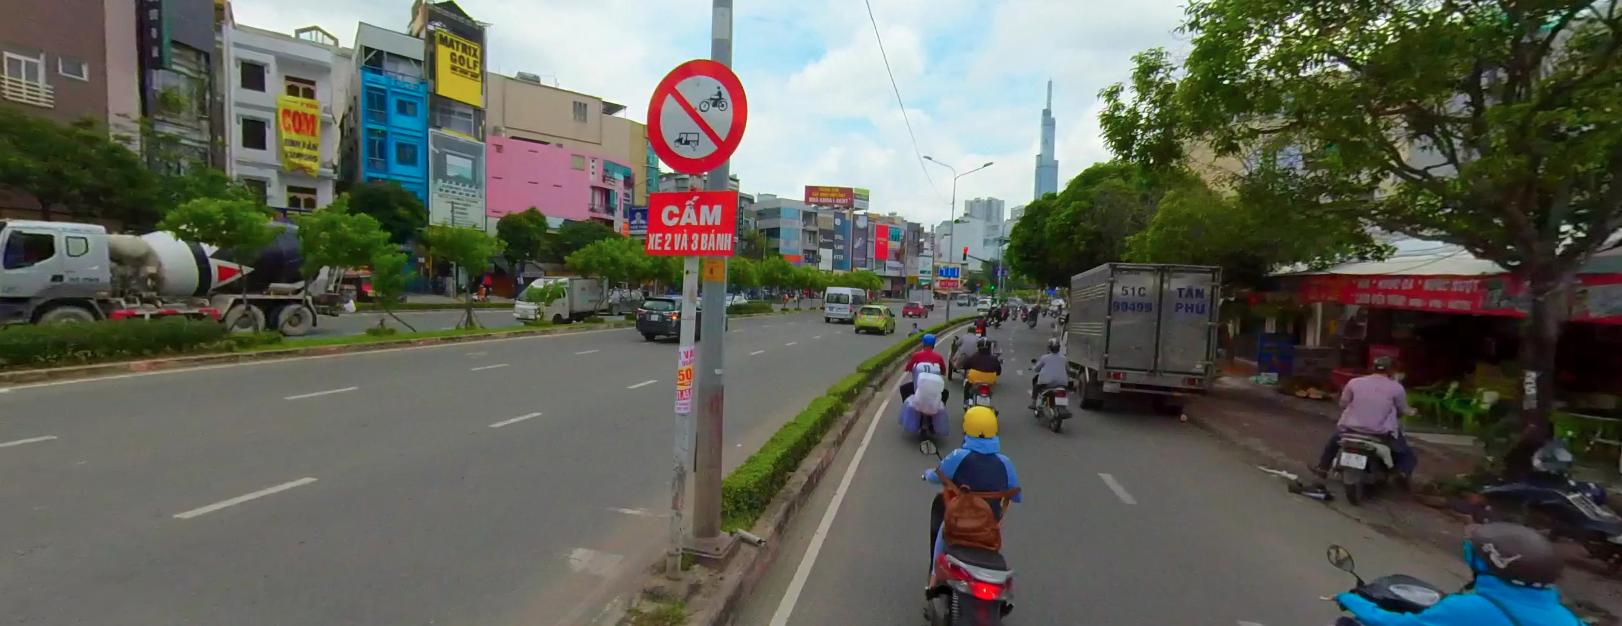Cam con lai: (639, 48, 748, 173)
Cam nguoc chieu: (975, 280, 980, 284)
Hieu lenh: (975, 284, 980, 288)
